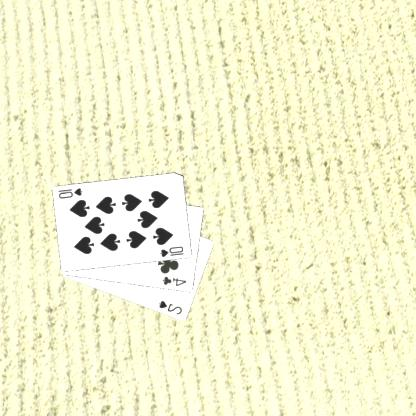10S: (159, 244, 187, 259), (58, 185, 86, 200)
2S: (158, 298, 185, 316)
4C: (162, 274, 190, 288)
